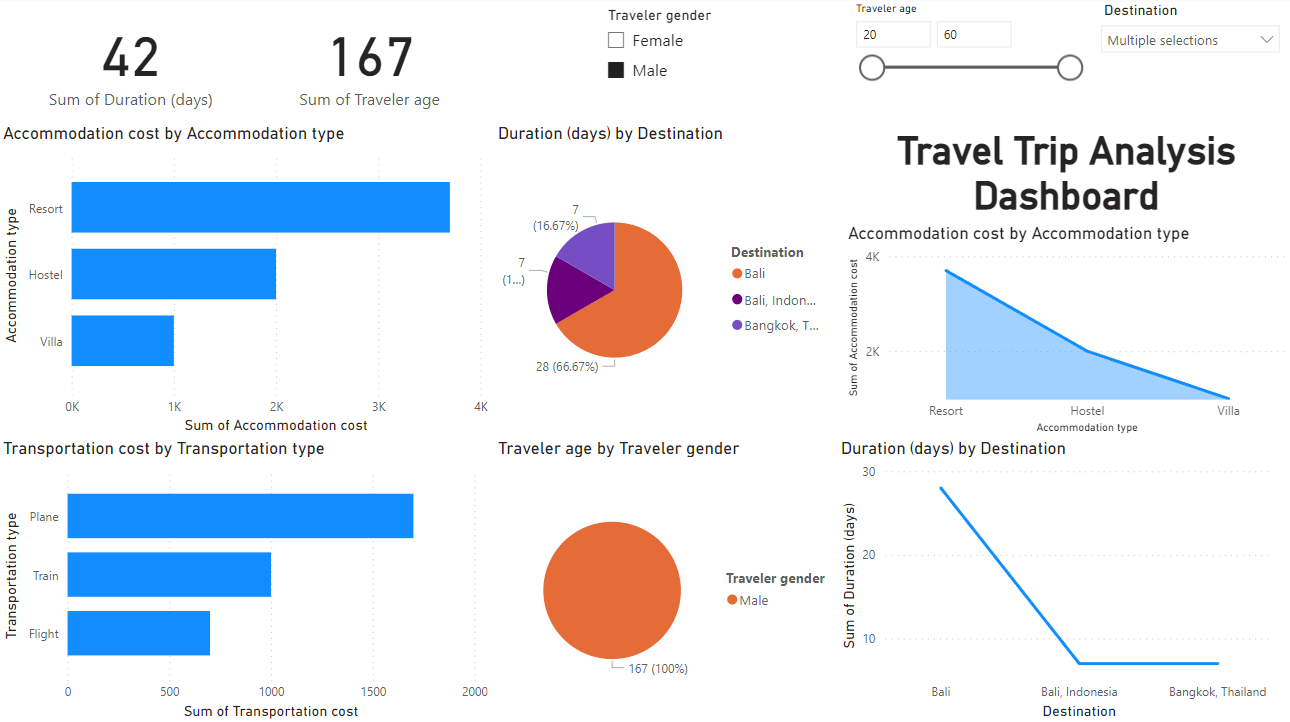

What the dashboard file says about the page in this screenshot:
{"tool":"powerbi","page":{"name":"Page 1","canvas":[1280,720],"ordinal":0},"visuals":[{"type":"barChart","title":"Transportation cost by Transportation type","fields":{"Category":["Travel details dataset.Transportation type"],"Y":["Sum(Travel details dataset.Transportation cost)"]},"box":[0,436.9,490.4,283.3],"z":0},{"type":"pieChart","title":"Traveler age by Traveler gender","fields":{"Category":["Travel details dataset.Traveler gender"],"Y":["Sum(Travel details dataset.Traveler age)"]},"box":[490.4,436.9,339.8,283.3],"z":1000},{"type":"lineChart","title":"Duration (days) by Destination","fields":{"Category":["Travel details dataset.Destination"],"Y":["Sum(Travel details dataset.Duration (days))"]},"box":[830.2,436.9,449.8,283.3],"z":2000},{"type":"slicer","fields":{"Values":["Travel details dataset.Destination"]},"box":[1082.8,0,197.2,124.8],"z":3000},{"type":"slicer","fields":{"Values":["Travel details dataset.Traveler age"]},"box":[837.2,0,245.7,124.8],"z":4000},{"type":"card","fields":{"Values":["Sum(Travel details dataset.Duration (days))"]},"box":[0,0,262.5,124.8],"z":6000},{"type":"card","fields":{"Values":["Sum(Travel details dataset.Traveler age)"]},"box":[245.7,0,244.7,124.8],"z":7000},{"type":"clusteredBarChart","title":"Accommodation cost by Accommodation type","fields":{"Category":["Travel details dataset.Accommodation type"],"Y":["Sum(Travel details dataset.Accommodation cost)"]},"box":[0,124.8,490.4,312.1],"z":8000},{"type":"pieChart","title":"Duration (days) by Destination","fields":{"Category":["Travel details dataset.Destination"],"Y":["Sum(Travel details dataset.Duration (days))"]},"box":[490.4,124.8,339.8,312.1],"z":9000},{"type":"slicer","fields":{"Values":["Travel details dataset.Traveler gender"]},"box":[591.5,5,245.7,119.9],"z":9001},{"type":"textbox","box":[837.2,124.8,442.8,99.1],"z":9002},{"type":"stackedAreaChart","title":"Accommodation cost by Accommodation type","fields":{"Category":["Travel details dataset.Accommodation type"],"Y":["Sum(Travel details dataset.Accommodation cost)"]},"box":[837,224,443,213],"z":9003}]}

Visuals, with their boxes in screenshot pixels (x1, y1, x2, y2), scaled from the page's 1280x720 canvas onto the 1290x722 screenshot:
"Transportation cost by Transportation type" barChart: [x1=0, y1=438, x2=494, y2=721]
"Traveler age by Traveler gender" pieChart: [x1=494, y1=438, x2=837, y2=721]
"Duration (days) by Destination" lineChart: [x1=837, y1=438, x2=1289, y2=721]
slicer - Travel details dataset.Destination: [x1=1091, y1=0, x2=1289, y2=125]
slicer - Travel details dataset.Traveler age: [x1=844, y1=0, x2=1091, y2=125]
card - Sum(Travel details dataset.Duration (days)): [x1=0, y1=0, x2=265, y2=125]
card - Sum(Travel details dataset.Traveler age): [x1=248, y1=0, x2=494, y2=125]
"Accommodation cost by Accommodation type" clusteredBarChart: [x1=0, y1=125, x2=494, y2=438]
"Duration (days) by Destination" pieChart: [x1=494, y1=125, x2=837, y2=438]
slicer - Travel details dataset.Traveler gender: [x1=596, y1=5, x2=844, y2=125]
textbox: [x1=844, y1=125, x2=1289, y2=225]
"Accommodation cost by Accommodation type" stackedAreaChart: [x1=844, y1=225, x2=1289, y2=438]
